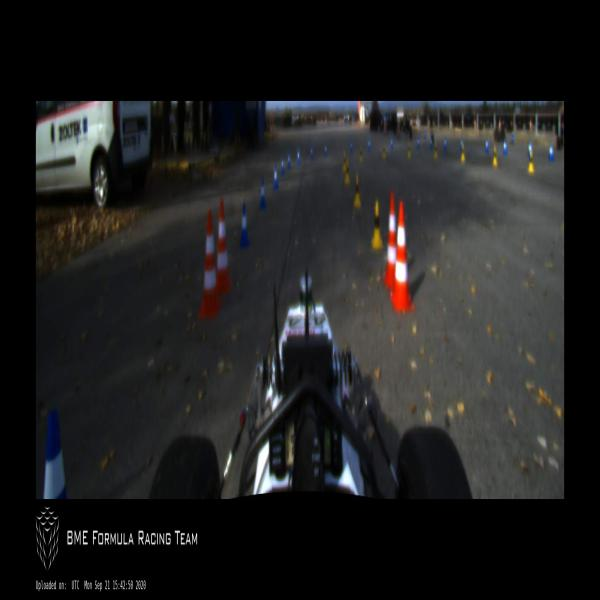blue_cone: (44, 409, 68, 499), (238, 202, 250, 248), (259, 177, 267, 208), (273, 164, 278, 189), (83, 109, 87, 128), (287, 151, 291, 169), (280, 156, 284, 174), (349, 138, 353, 154), (528, 142, 532, 158), (485, 138, 489, 153), (503, 139, 507, 154), (366, 136, 370, 150), (550, 147, 554, 161), (429, 136, 433, 149), (297, 148, 300, 164), (310, 144, 313, 160), (324, 142, 327, 157), (390, 135, 393, 148), (417, 135, 420, 148), (444, 138, 447, 150), (549, 146, 551, 160), (460, 137, 462, 150)
large_orange_cone: (390, 202, 414, 309), (197, 210, 220, 321), (217, 200, 232, 294), (382, 191, 396, 287)
yellow_cone: (370, 200, 383, 250), (353, 176, 361, 208), (344, 159, 350, 184), (460, 140, 466, 161), (528, 152, 534, 173), (492, 146, 497, 167), (433, 142, 438, 159), (407, 140, 411, 157), (359, 146, 363, 163), (343, 150, 346, 170), (382, 143, 386, 158)
